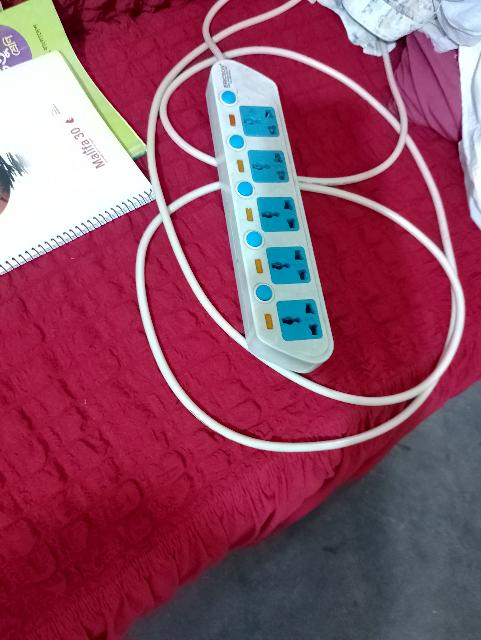hardplastic: (202, 50, 330, 372)
